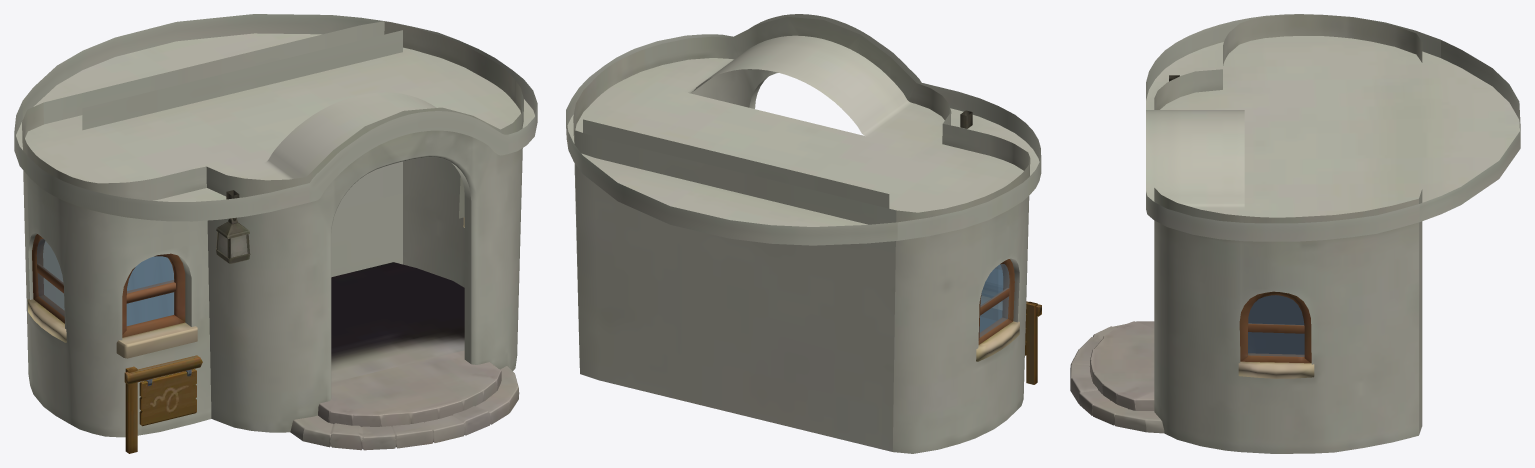
The model's file is wall-nd-stucco.glb.
3 views of the same model, side by side, from view 1: azimuth 30°, elevation 25°; view 2: azimuth 150°, elevation 25°; view 3: azimuth 270°, elevation 25° (orthographic). The views are drawn at different scales.
Bounding box in the file's own units: 39.03 × 24.67 × 35.49.
7 materials, 3 textured.
